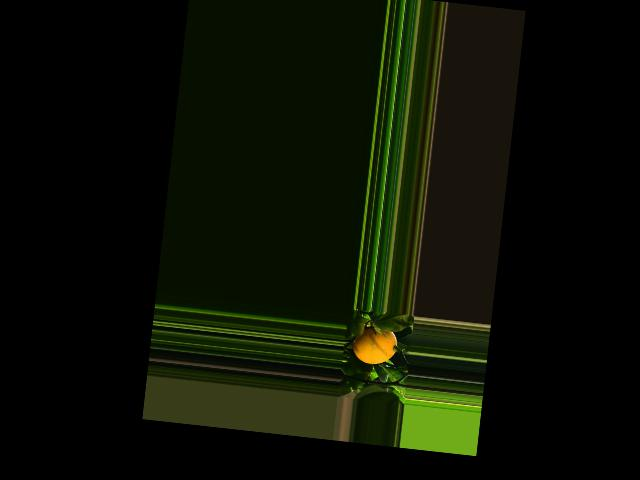lemon: (351, 319, 402, 369)
